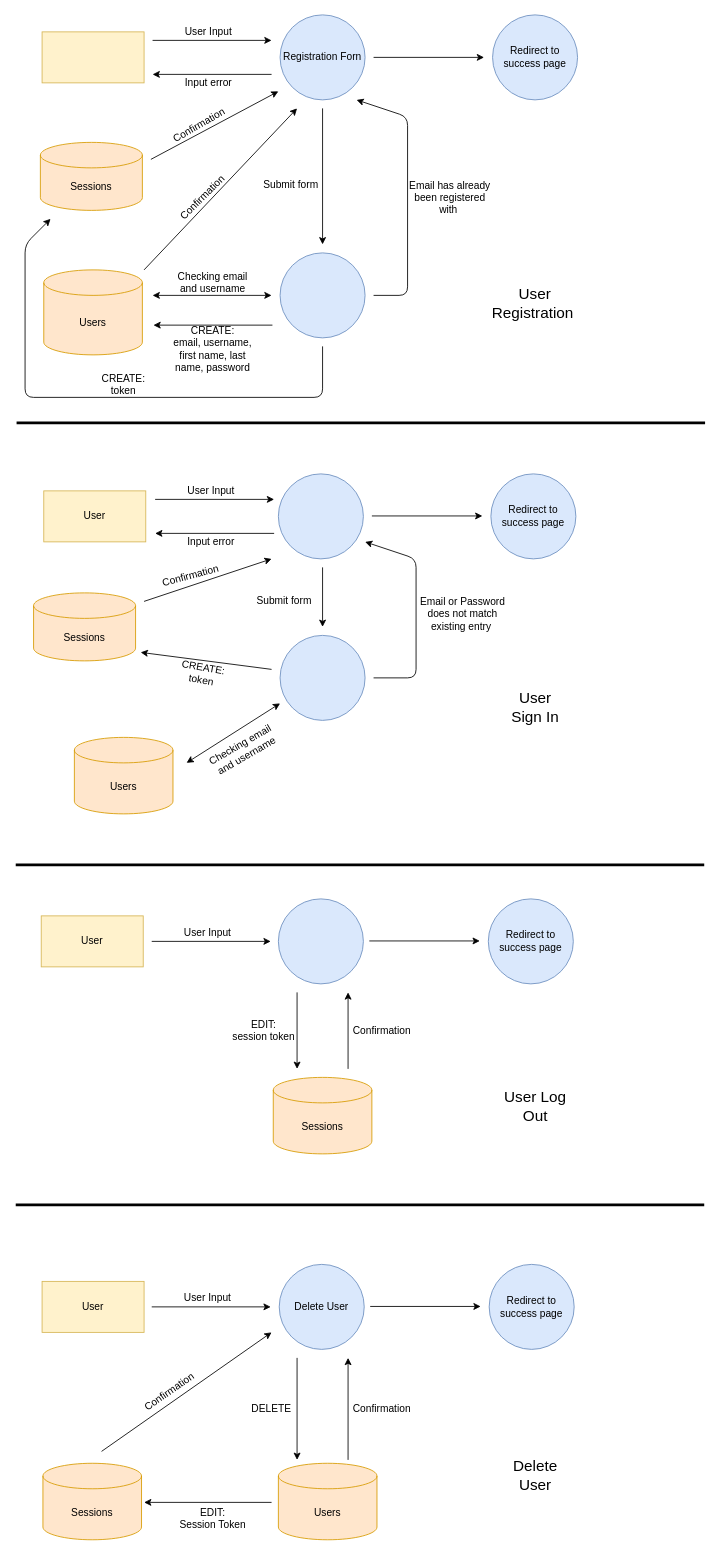
Image size: 722x1555. Some labels were removed from this diagram. The centre of each missing label's shape, as x and y in pixels:
"Email and password query process" belongs at point 322,677.
"Email and username query process" belongs at point 322,295.
"Log Out Button" belongs at point 320,941.
"New User" belongs at point 92,57.
"Sign In Forn" belongs at point 320,516.
